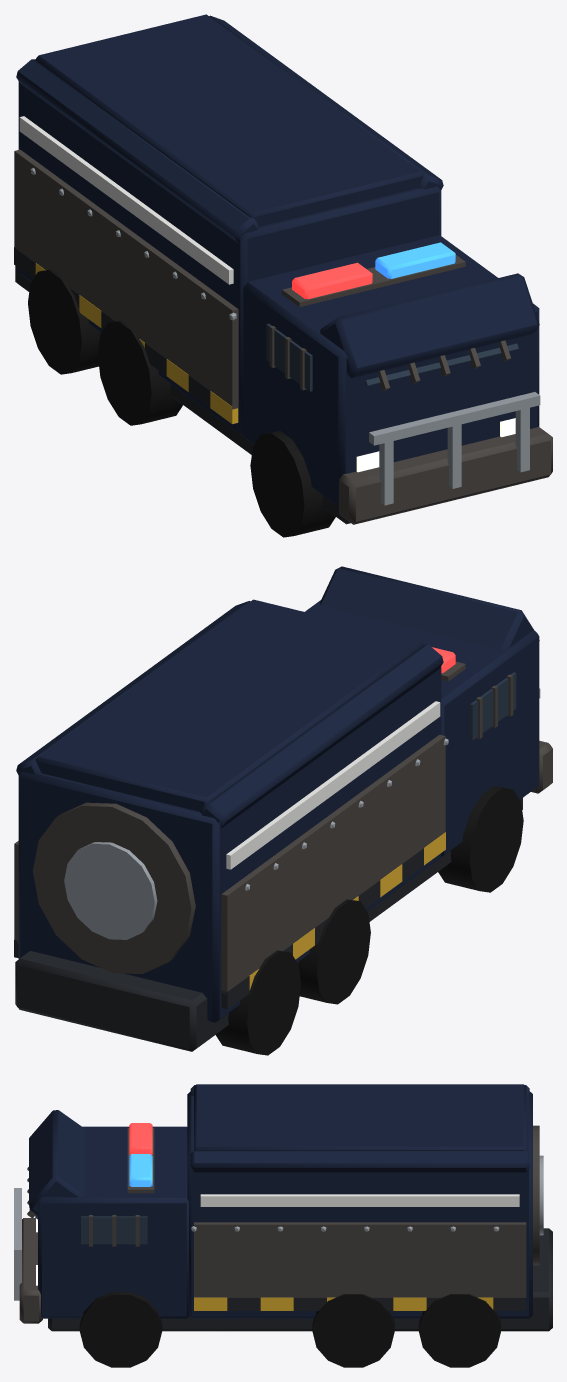
File: hidrante_l2.fbx
3 views of the same model, one above another, from view 1: azimuth 30°, elevation 25°; view 2: azimuth 150°, elevation 25°; view 3: azimuth 270°, elevation 25° (orthographic). The views are drawn at different scales.
Parts seen in each view (by area): view 1: hidrante_l2; view 2: hidrante_l2; view 3: hidrante_l2.
Boxes of the visible parts, x1=… form: hidrante_l2: x1=14, y1=14, x2=552, y2=537; hidrante_l2: x1=14, y1=566, x2=552, y2=1055; hidrante_l2: x1=14, y1=1084, x2=552, y2=1367.
Size of the model in its own units: 2.9 by 3.51 by 8.11.
